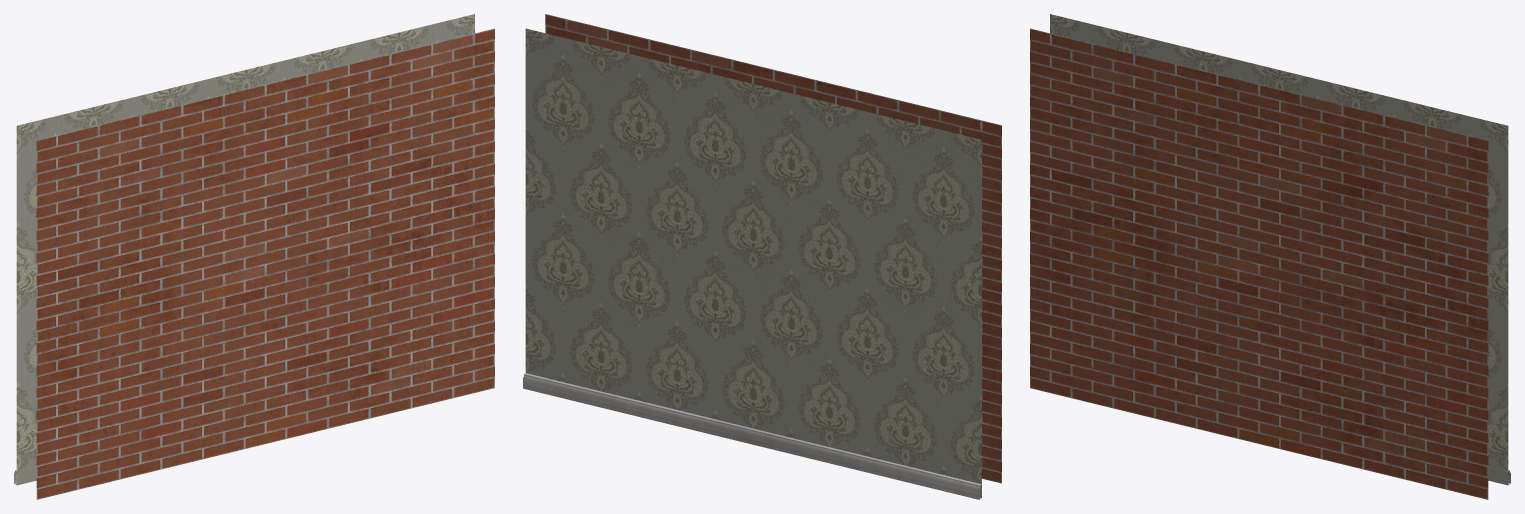
The model's file is House_05_Wall_01.fbx.
3 renders of one model, left to right at view 1: azimuth 30°, elevation 25°; view 2: azimuth 150°, elevation 25°; view 3: azimuth 330°, elevation 25°, orthographic.
Visible parts, largest first — view 1: House_05_Wall_01; view 2: House_05_Wall_01; view 3: House_05_Wall_01.
Boxes of the visible parts, bbox=[...] form: House_05_Wall_01: bbox=[14, 14, 494, 499]; House_05_Wall_01: bbox=[523, 14, 1001, 499]; House_05_Wall_01: bbox=[1030, 14, 1510, 499].
Size of the model in its own units: 400 by 300 by 33.93.
